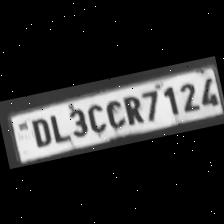1: (156, 82, 180, 118)
2: (173, 78, 200, 114)
3: (63, 104, 89, 139)
4: (194, 74, 220, 108)
7: (138, 87, 164, 123)
C: (83, 100, 108, 134), (101, 96, 125, 130)
D: (24, 113, 52, 148)
L: (46, 109, 70, 144)
R: (119, 91, 145, 127)
